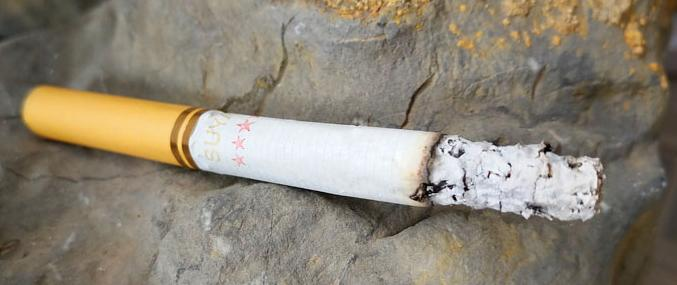smoke: (22, 84, 607, 224)
